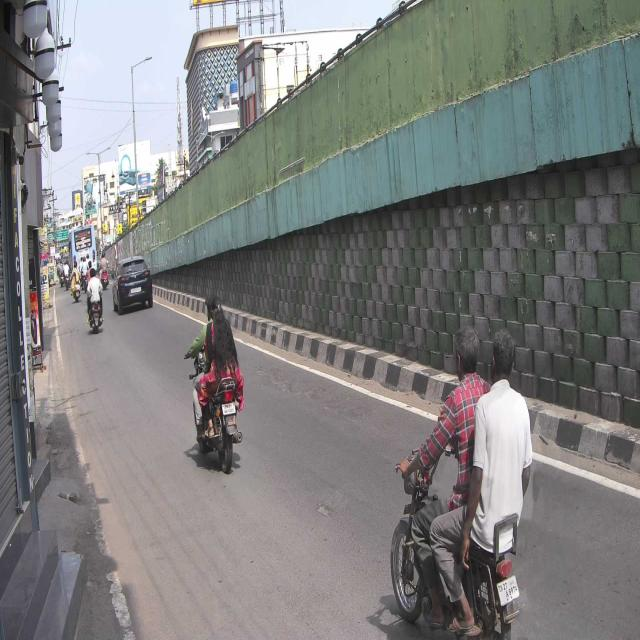double_rider: (391, 324, 534, 640), (186, 290, 244, 478)
